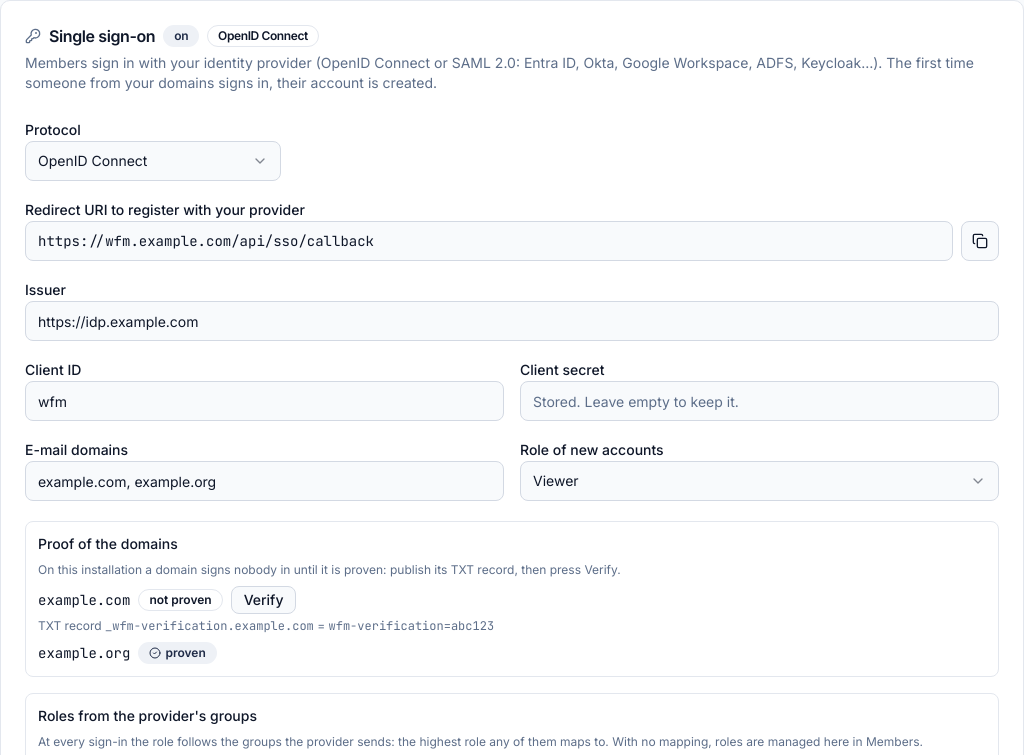
Test: SsoCard › shows each domain's TXT record, and says what the check found
This screenshot has width=1024, height=755.
Expected: the list item with test id "sso-domain-row" shows "_wfm-verification.example.com = wfm-verification=abc123", [38, 586, 494, 634]
Expected: the list item with test id "sso-domain-row" shows "proven", [165, 645, 206, 660]
Click the button "Verify": point(264, 600) [231, 586, 296, 614]
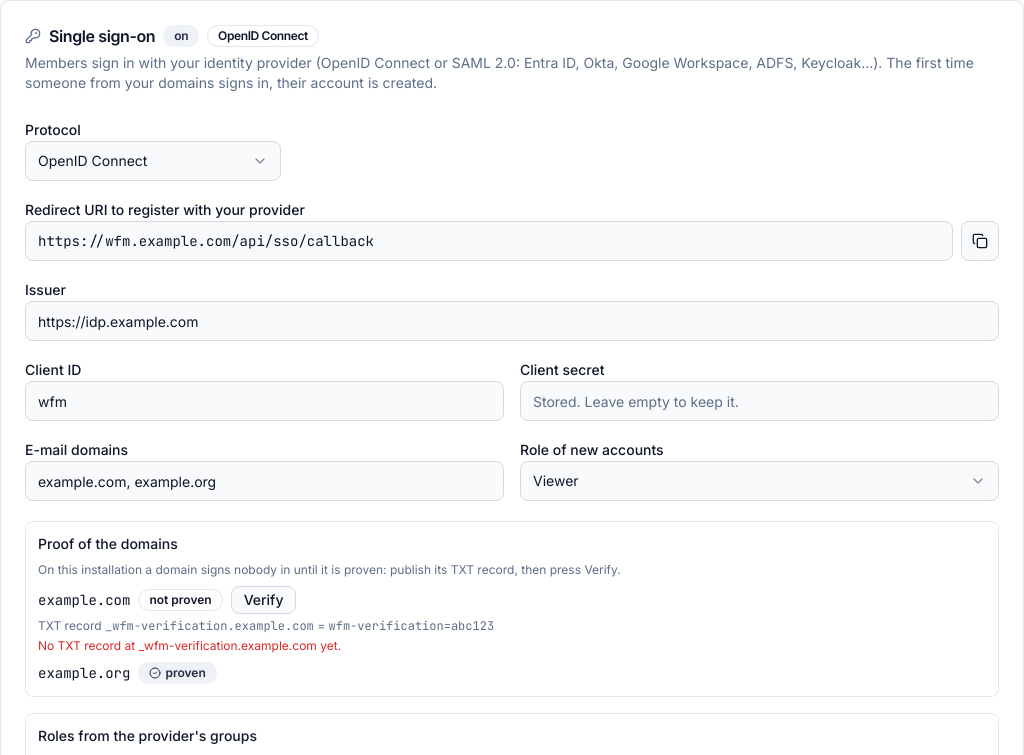
Result: the text "No TXT record at _wfm-verification.example.com yet." is shown at [38, 638, 341, 653]
